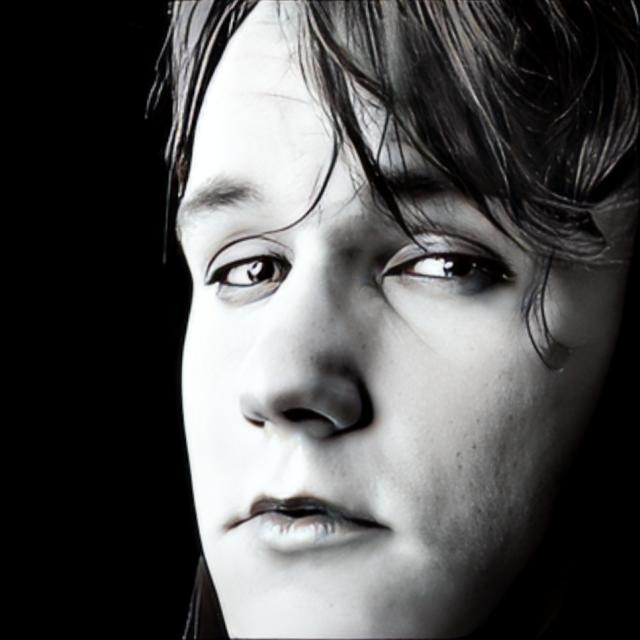neutral: (172, 0, 634, 640)
